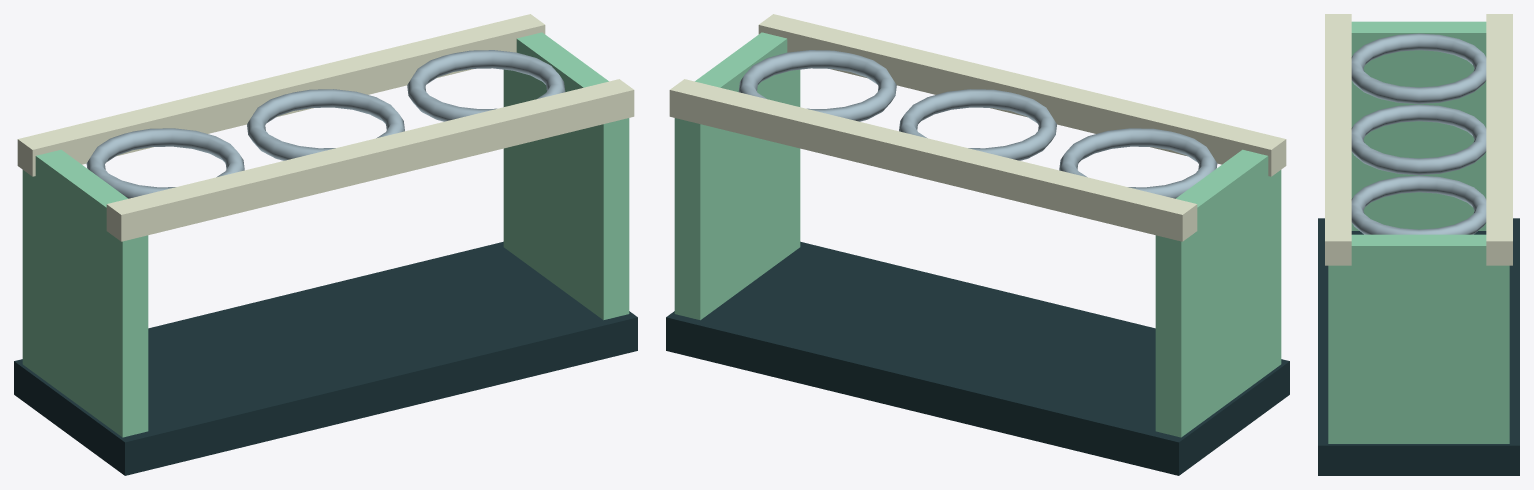
Rendered from tube-rack.glb.
3 views of the same model, side by side, from view 1: azimuth 30°, elevation 25°; view 2: azimuth 150°, elevation 25°; view 3: azimuth 270°, elevation 25° (orthographic). The views are drawn at different scales.
Visible parts, largest first — view 1: base, support--1, support-1, rail-1, rail--1, socket-2, socket-1, socket-0; view 2: base, support--1, support-1, rail--1, rail-1, socket-2, socket-1, socket-0; view 3: support-1, support--1, base, rail--1, rail-1, socket-0, socket-1, socket-2.
Part boxes in pixels (x1,y1,x2,y2): base: [14, 241, 637, 475]; support--1: [22, 149, 148, 437]; support-1: [503, 32, 629, 320]; rail-1: [106, 79, 634, 241]; rail--1: [17, 14, 545, 176]; socket-2: [407, 50, 565, 121]; socket-1: [247, 89, 404, 160]; socket-0: [86, 128, 244, 198]; base: [666, 241, 1289, 475]; support--1: [1155, 149, 1281, 437]; support-1: [674, 32, 800, 320]; rail--1: [669, 79, 1197, 241]; rail-1: [758, 14, 1286, 176]; socket-2: [738, 50, 896, 121]; socket-1: [899, 89, 1056, 160]; socket-0: [1059, 128, 1217, 198]; support-1: [1328, 234, 1509, 443]; support--1: [1351, 21, 1486, 230]; base: [1318, 218, 1519, 475]; rail--1: [1486, 14, 1512, 265]; rail-1: [1325, 14, 1351, 265]; socket-0: [1351, 33, 1486, 103]; socket-1: [1351, 104, 1486, 175]; socket-2: [1351, 175, 1486, 234].
Bounding box in the file's own units: 1.6 × 0.77 × 0.6.
